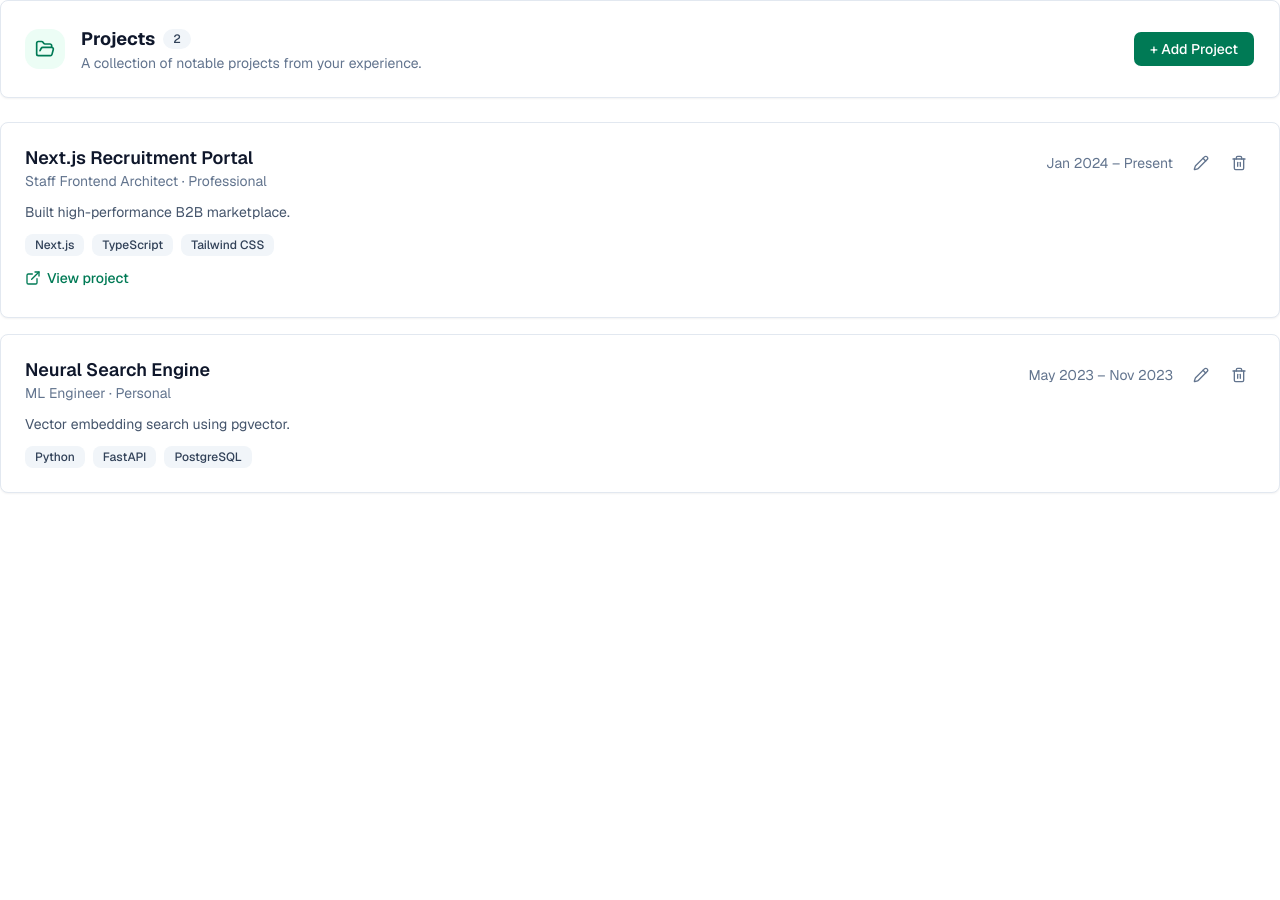
Test: ProjectsTabContent › opens Add Project dialog when clicking + Add Project button
Step 1. Click the button "+ Add Project" → (1194, 49), box [1133,31,1255,67]
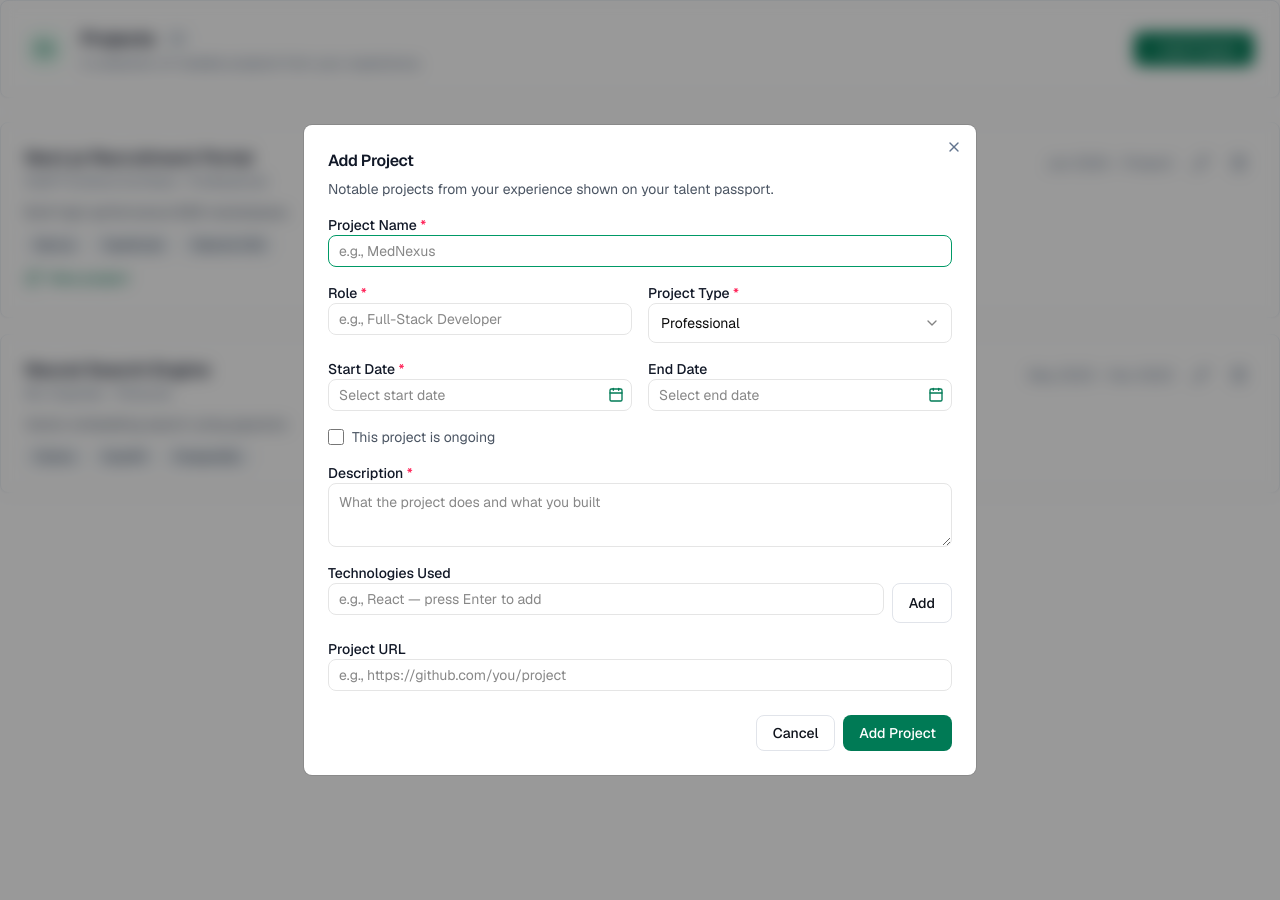
Check: the heading "Add Project" is shown, box [328,150,414,171]
